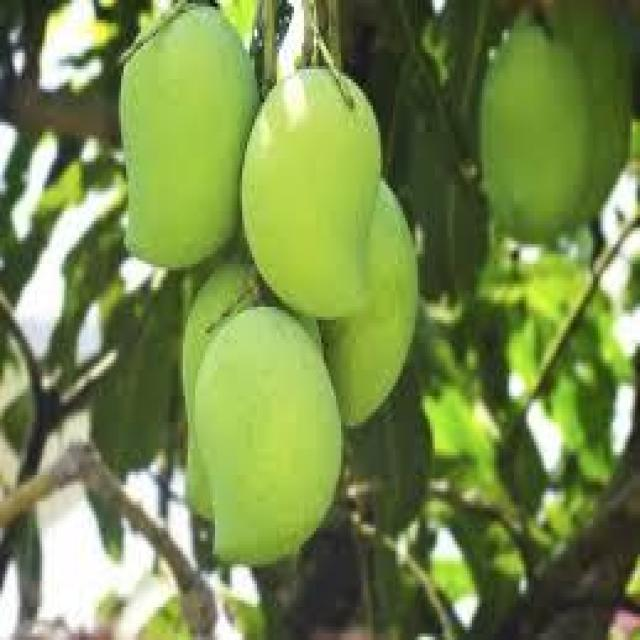Mango: (194, 304, 346, 568), (114, 0, 260, 273), (241, 69, 383, 314), (314, 177, 425, 427), (472, 10, 592, 233)
